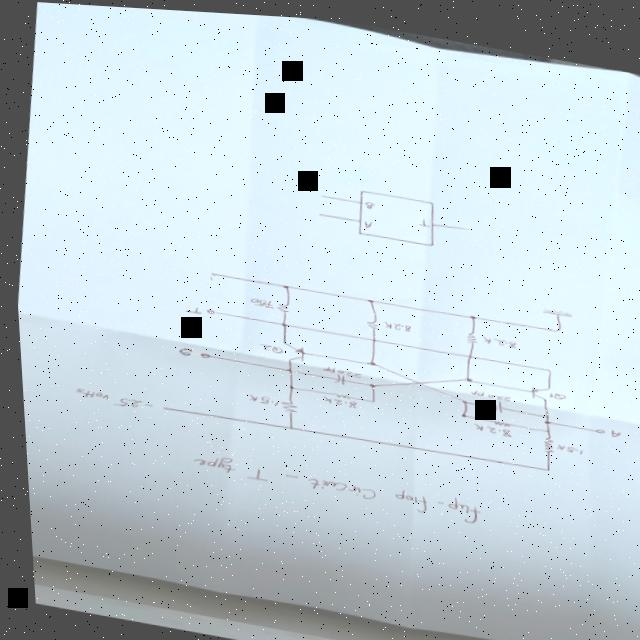capacitor: (484, 393, 502, 410), (327, 368, 342, 382)
crossover: (364, 332, 375, 339), (460, 348, 470, 355), (409, 376, 419, 381)
ground: (536, 299, 571, 313)
junction: (360, 356, 374, 363), (279, 364, 295, 370), (362, 378, 374, 385), (458, 372, 471, 378), (282, 381, 293, 388), (204, 268, 215, 275), (538, 413, 548, 420), (361, 294, 372, 300), (550, 320, 559, 327), (281, 422, 291, 428), (277, 281, 287, 286), (464, 309, 474, 314), (275, 319, 285, 324), (541, 361, 549, 367), (455, 394, 464, 399), (365, 394, 372, 400), (455, 408, 463, 413), (538, 461, 546, 466), (539, 408, 546, 413), (540, 423, 546, 427)
resistor: (274, 395, 294, 411), (536, 430, 551, 447), (461, 325, 476, 340), (360, 313, 377, 326), (272, 298, 288, 311), (487, 413, 507, 422), (329, 389, 348, 396)
terminal: (194, 349, 207, 357), (589, 421, 602, 428), (201, 306, 214, 313), (315, 208, 321, 214), (462, 221, 469, 226), (317, 190, 323, 195), (156, 404, 162, 408)
text: (184, 450, 478, 520), (69, 386, 149, 411), (466, 417, 510, 432), (316, 361, 360, 376), (464, 383, 508, 396), (476, 329, 514, 343), (317, 391, 354, 405), (242, 390, 276, 404), (549, 436, 581, 449), (244, 294, 273, 307), (379, 316, 409, 328), (253, 340, 281, 352), (543, 384, 563, 395), (180, 302, 200, 313), (172, 345, 190, 356), (414, 212, 429, 223), (361, 196, 375, 207), (603, 421, 618, 431), (360, 216, 372, 225)
transistor: (275, 338, 302, 360), (523, 377, 548, 396)
